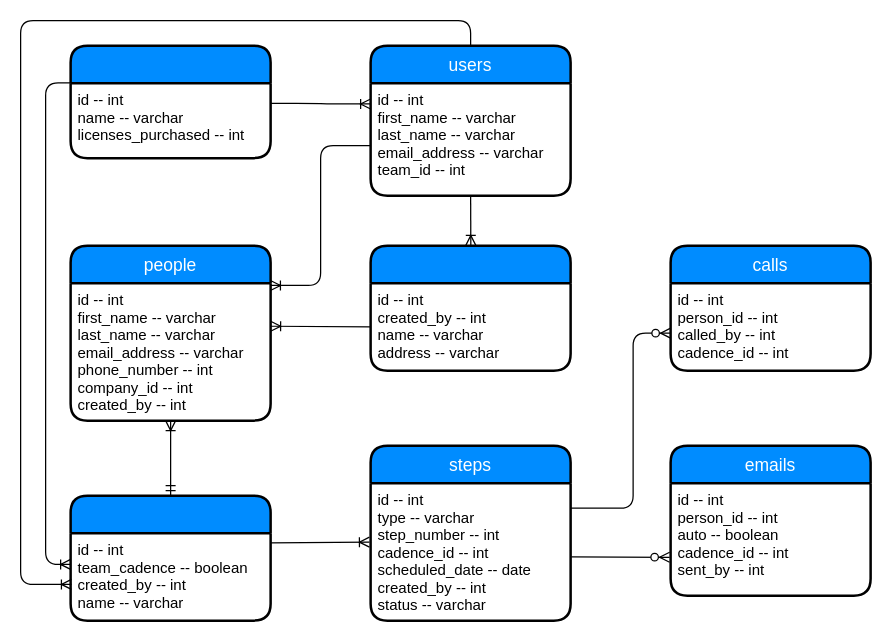
This 891x641 diagram has some shape labels left out. Here are the shapes that lost their labels. From the top down, the box of each, then its label:
(69, 44, 271, 159): teams
(369, 244, 571, 371): companies
(69, 494, 271, 621): cadences
